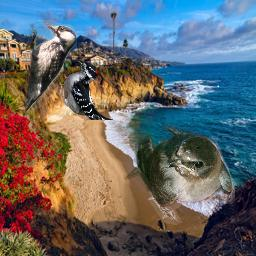Swallow: (122, 125, 235, 226)
Woodpecker: (25, 20, 77, 117), (62, 60, 113, 120)
